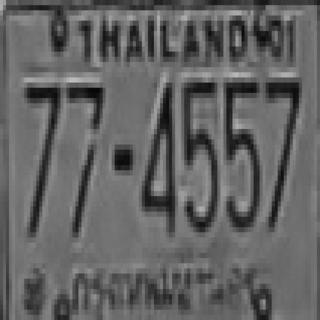N04: (139, 80, 175, 230)
N05: (223, 77, 260, 227), (181, 77, 217, 227)
N07: (65, 80, 104, 235), (23, 77, 59, 232), (264, 77, 300, 227), (23, 80, 59, 214)
P04: (67, 252, 257, 316)
